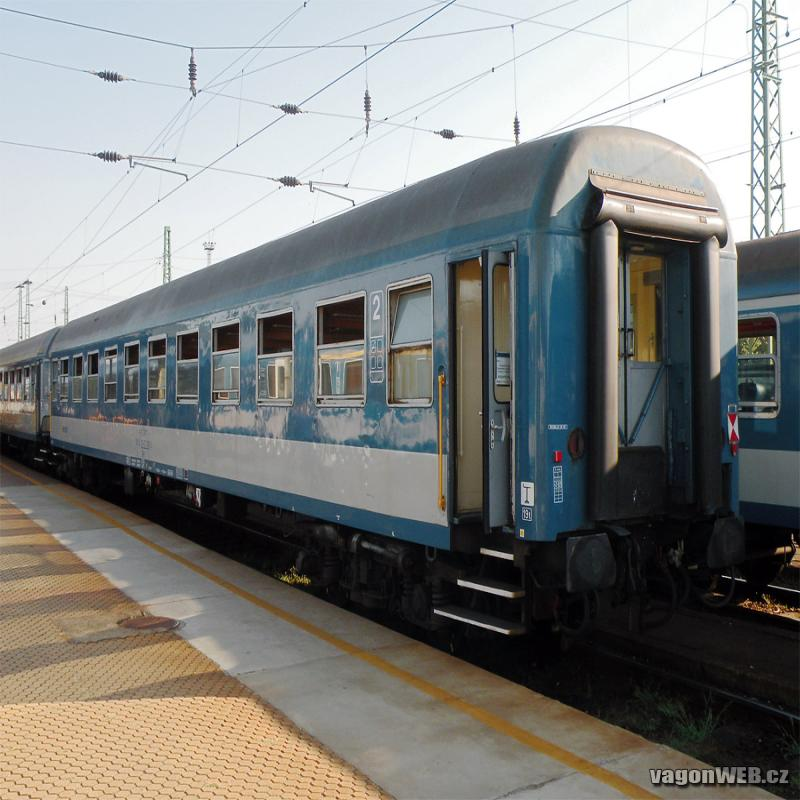train: (39, 129, 734, 678)
